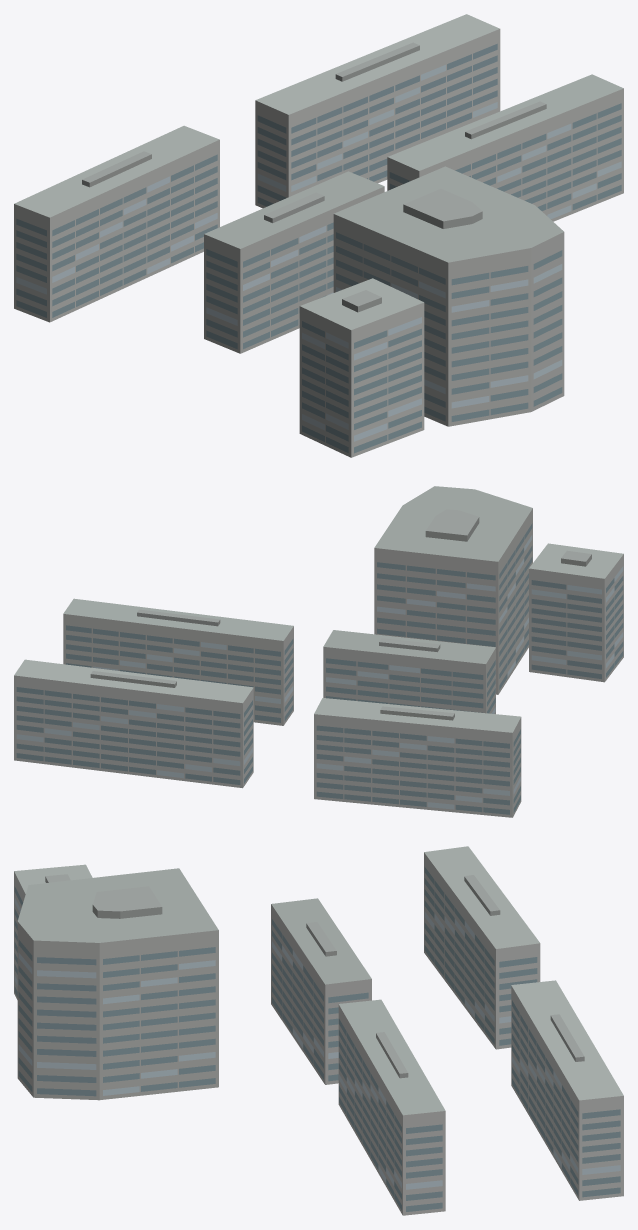
Rendered from apt-a13580001.glb.
3 renders of one model, top to bottom at view 1: azimuth 30°, elevation 25°; view 2: azimuth 150°, elevation 25°; view 3: azimuth 270°, elevation 25°, orthographic. The views are drawn at different scales.
Visible parts, largest first — view 1: apt-a13580001; view 2: apt-a13580001; view 3: apt-a13580001.
Part boxes in pixels (x1,y1,x2,y2): apt-a13580001: [14, 14, 623, 457]; apt-a13580001: [14, 486, 623, 817]; apt-a13580001: [14, 846, 623, 1215].
Bounding box in the file's own units: 158 × 45 × 151.
